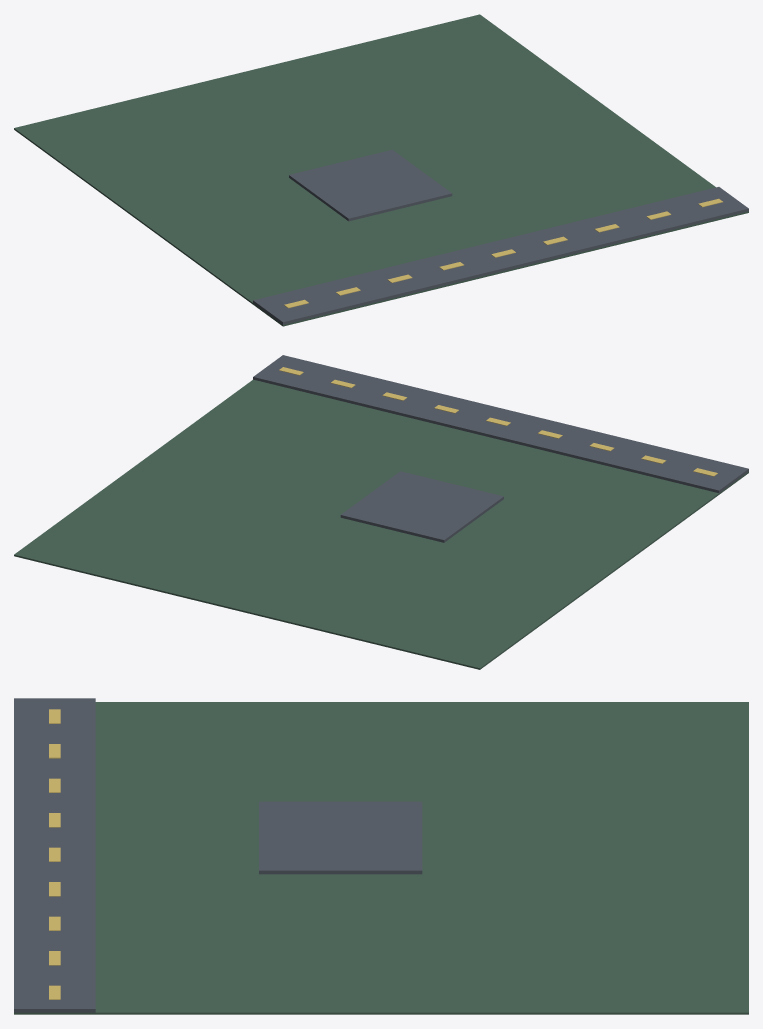
The model's file is stage_01.glb.
3 renders of one model, top to bottom at view 1: azimuth 30°, elevation 25°; view 2: azimuth 150°, elevation 25°; view 3: azimuth 270°, elevation 25°, orthographic. The views are drawn at different scales.
Parts seen in each view (by area): view 1: geometry_0; view 2: geometry_0; view 3: geometry_0.
Boxes of the visible parts, x1,y1,x2,y2 form: geometry_0: (14,14,748,326); geometry_0: (14,355,748,669); geometry_0: (14,698,748,1014).
Size of the model in its own units: 9 by 0.091 by 9.
